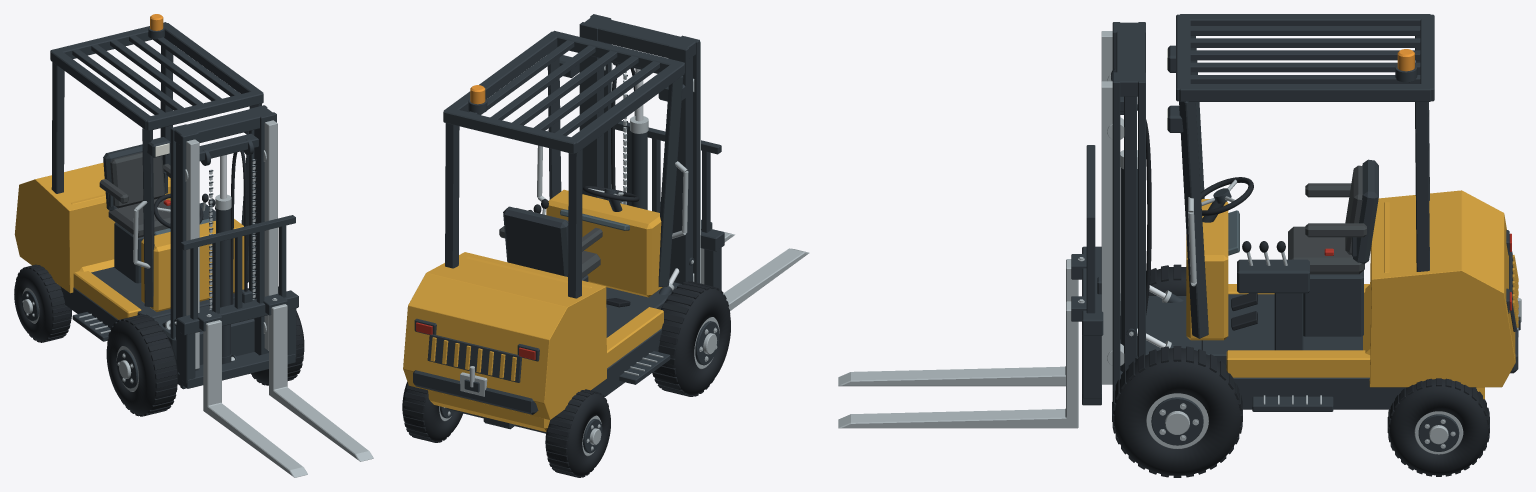
Rendered from city-counterbalance-forklift.glb.
3 renders of one model, left to right at view 1: azimuth 30°, elevation 25°; view 2: azimuth 150°, elevation 25°; view 3: azimuth 270°, elevation 25°, orthographic. The views are drawn at different scales.
Visible parts, largest first — view 1: Assembly | Graphite steel frame, Assembly | Satin plated steel, Assembly | Warm industrial ochre enamel, Assembly | Charcoal rubber, Assembly | Dark upholstery; view 2: Assembly | Graphite steel frame, Assembly | Warm industrial ochre enamel, Assembly | Charcoal rubber, Assembly | Satin plated steel, Assembly | Dark upholstery; view 3: Assembly | Graphite steel frame, Assembly | Warm industrial ochre enamel, Assembly | Charcoal rubber, Assembly | Satin plated steel, Assembly | Dark upholstery.
Part boxes in pixels (x1,y1,x2,y2): Assembly | Graphite steel frame: (22,22,298,389); Assembly | Satin plated steel: (22,120,373,477); Assembly | Warm industrial ochre enamel: (14,162,244,319); Assembly | Charcoal rubber: (14,150,304,416); Assembly | Dark upholstery: (99,152,170,237); Assembly | Graphite steel frame: (413,14,724,453); Assembly | Warm industrial ochre enamel: (403,189,663,431); Assembly | Charcoal rubber: (402,64,730,477); Assembly | Satin plated steel: (439,19,809,456); Assembly | Dark upholstery: (499,208,602,278); Assembly | Graphite steel frame: (1071,14,1520,451); Assembly | Warm industrial ochre enamel: (1186,190,1518,399); Assembly | Charcoal rubber: (1112,104,1489,477); Assembly | Satin plated steel: (838,31,1521,454); Assembly | Dark upholstery: (1288,165,1366,274).
Bounding box in the file's own units: 1.3 × 2.32 × 3.56.
